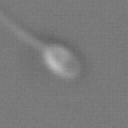normal: (1, 4, 42, 52)
